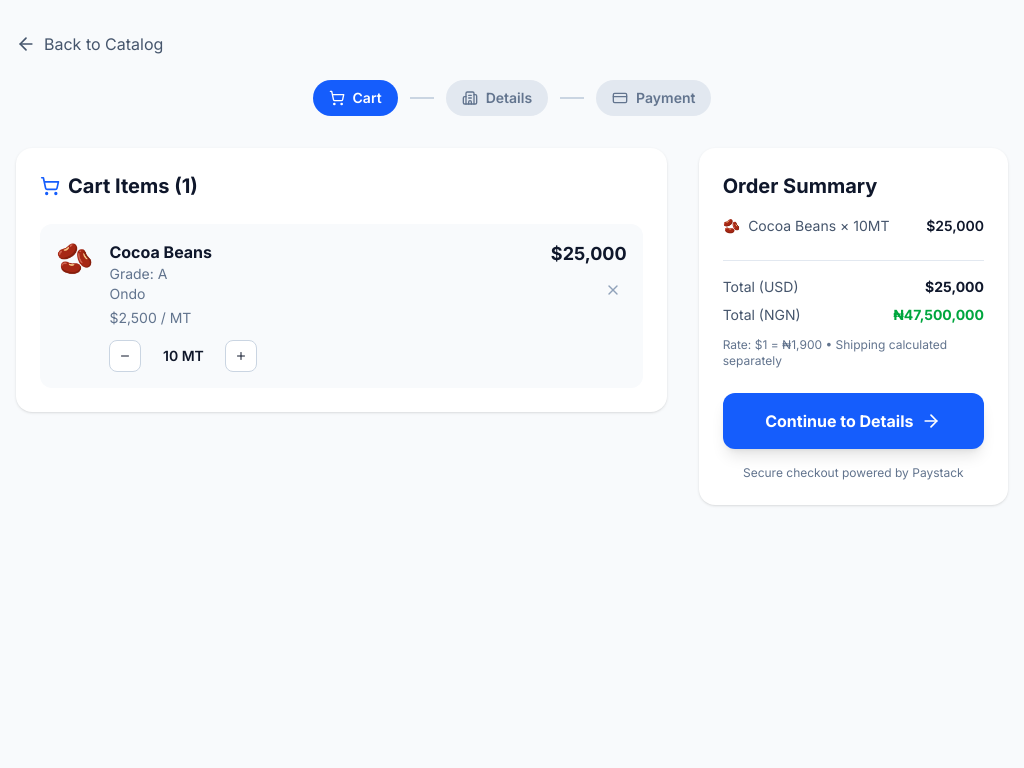
Test case: #577 — the screen quotes the rate the server charges at › AND A REFUSED QUOTE RE-PRICES THE SCREEN INSTEAD OF THE STATEMENT
Click the button "Continue to Details": (853, 421) [723,393,984,449]
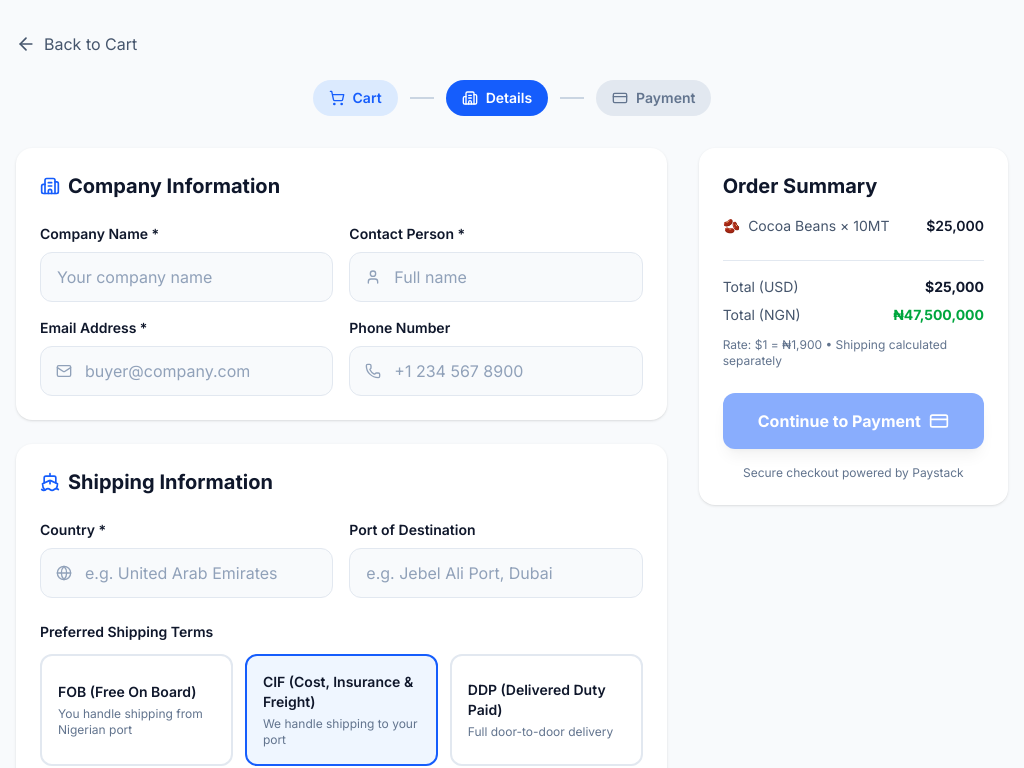
In the field with placeholder "Your company name": (187, 277) [40,252,333,302], type "A Co"
In the field with placeholder "Full name": (496, 277) [349,252,643,302], type "A Person"
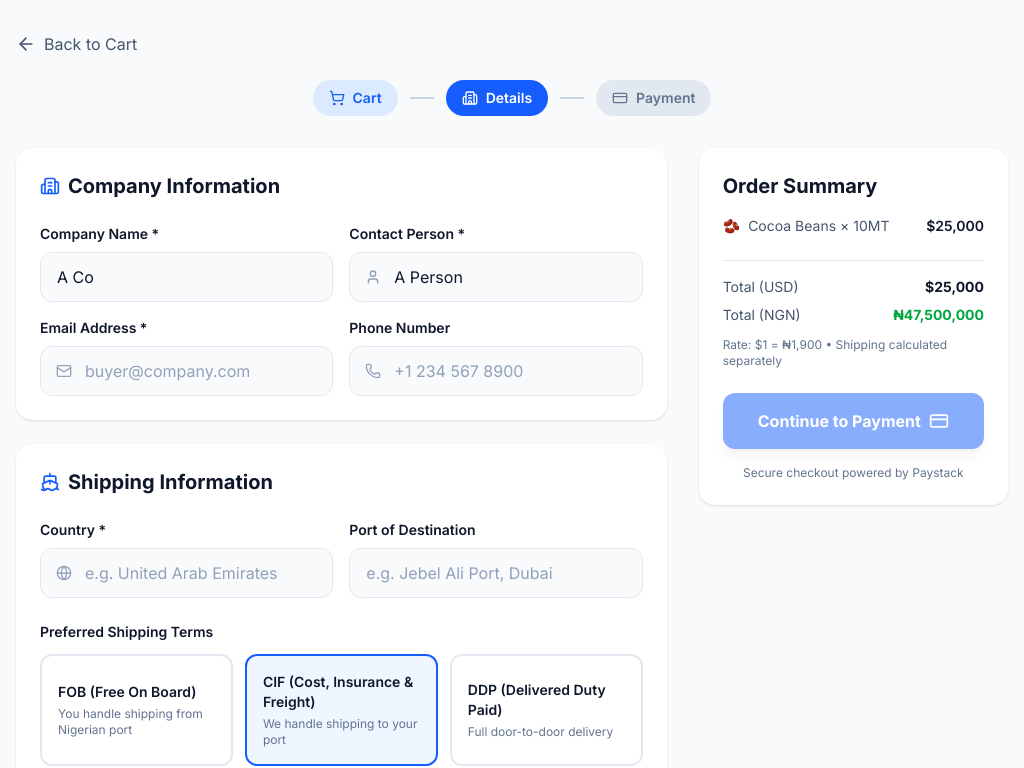
In the field with placeholder "buyer@company.com": (187, 371) [40,346,333,396], type "b@e.com"
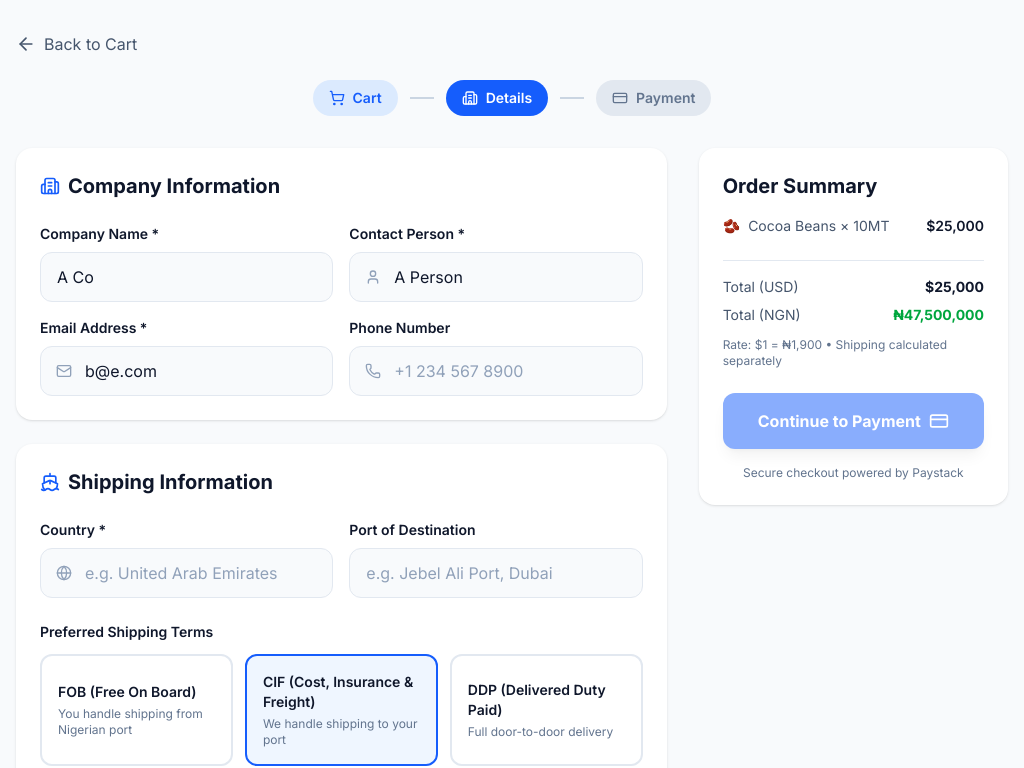
In the field with placeholder "e.g. United Arab Emirates": (187, 573) [40,548,333,598], type "Germany"
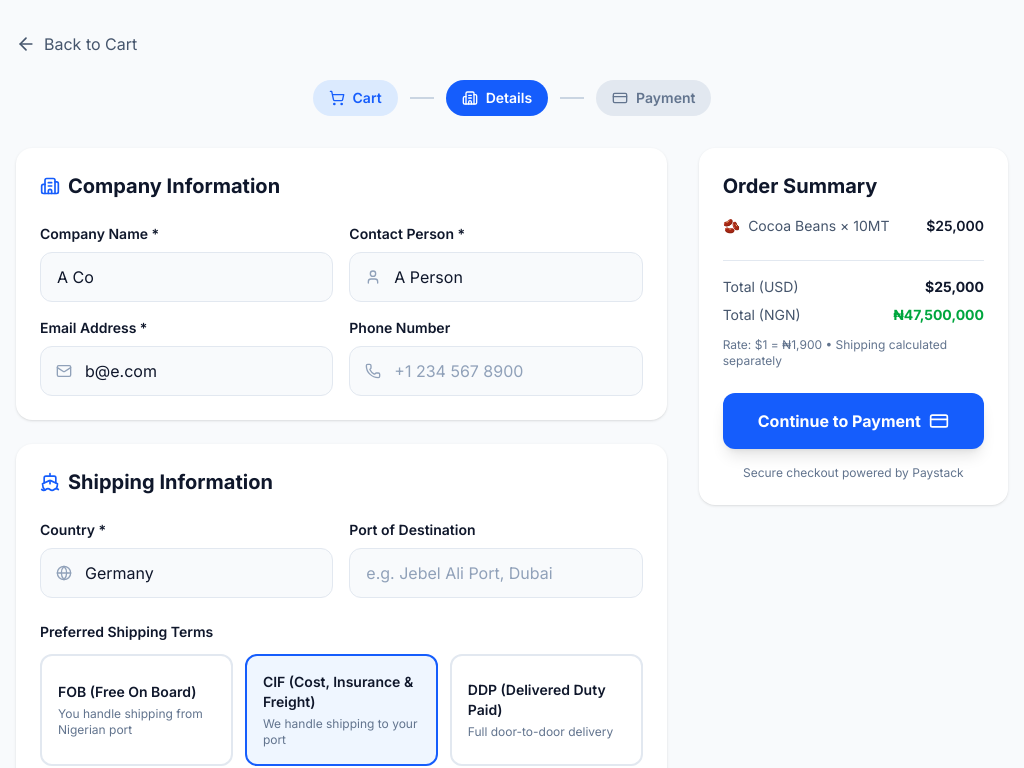
Click the button "Continue to Payment": (853, 421) [723,393,984,449]
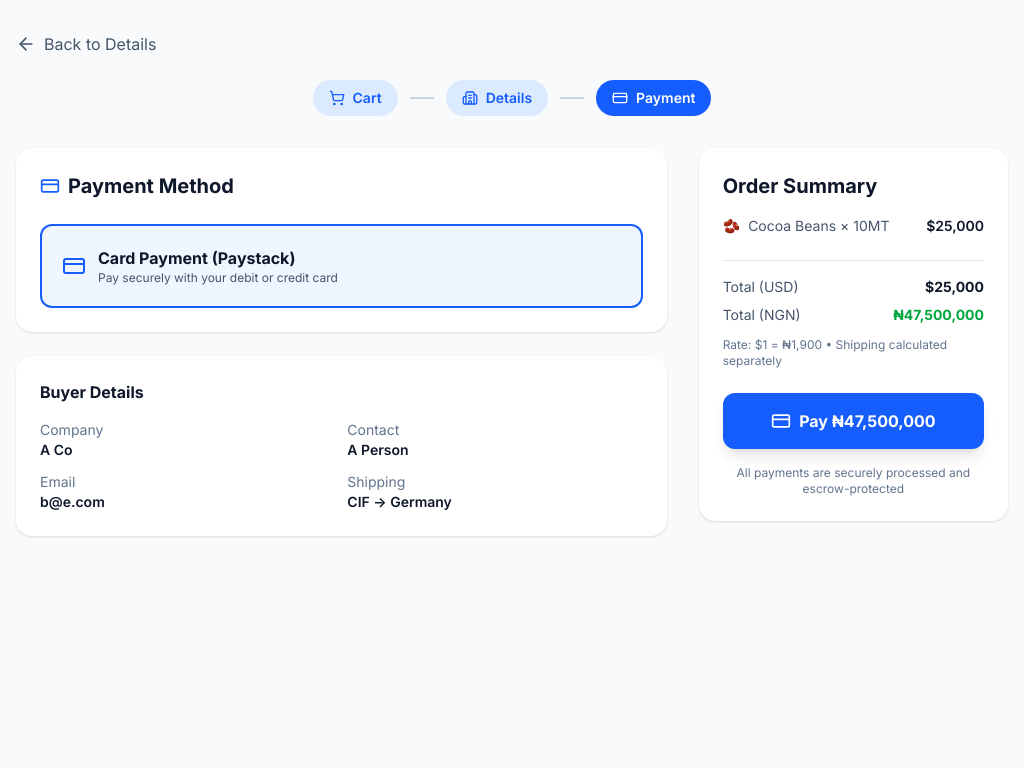
Click the button "Pay ₦47,500,000": (853, 421) [723,393,984,449]
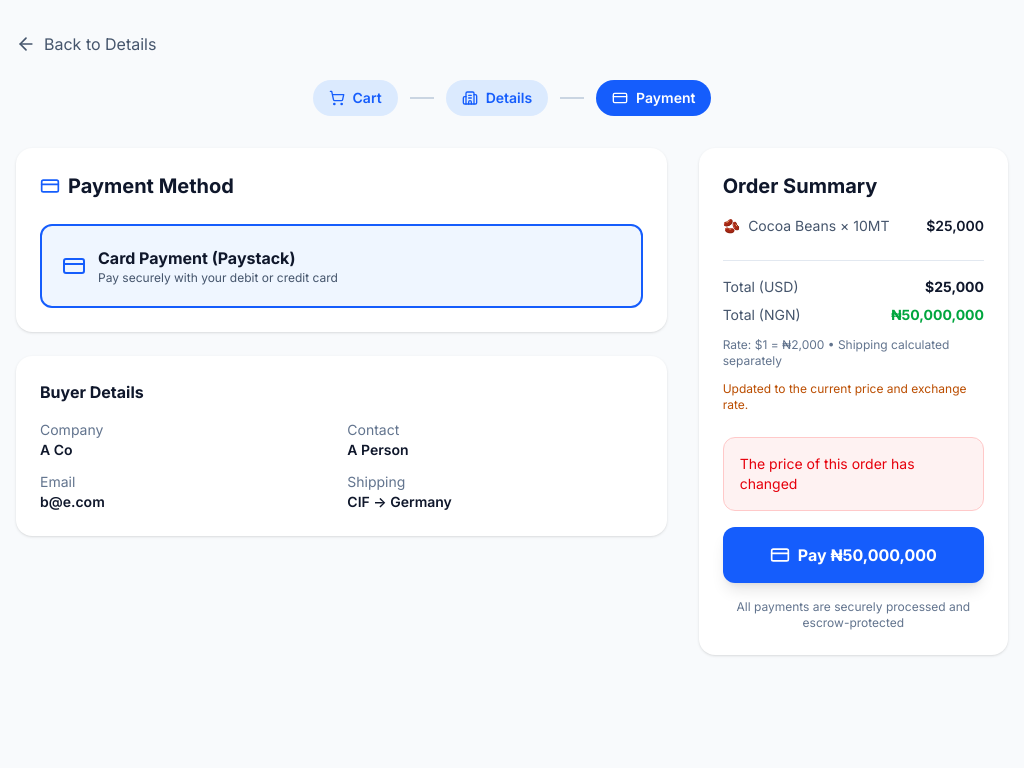
Result: the text "₦50,000,000" is shown at [891,305,984,325]
Result: the text "Rate: $1 = ₦2,000" is shown at [723,333,984,369]
Result: the text "Updated to the current price and exchange rate." is shown at [723,377,984,413]
